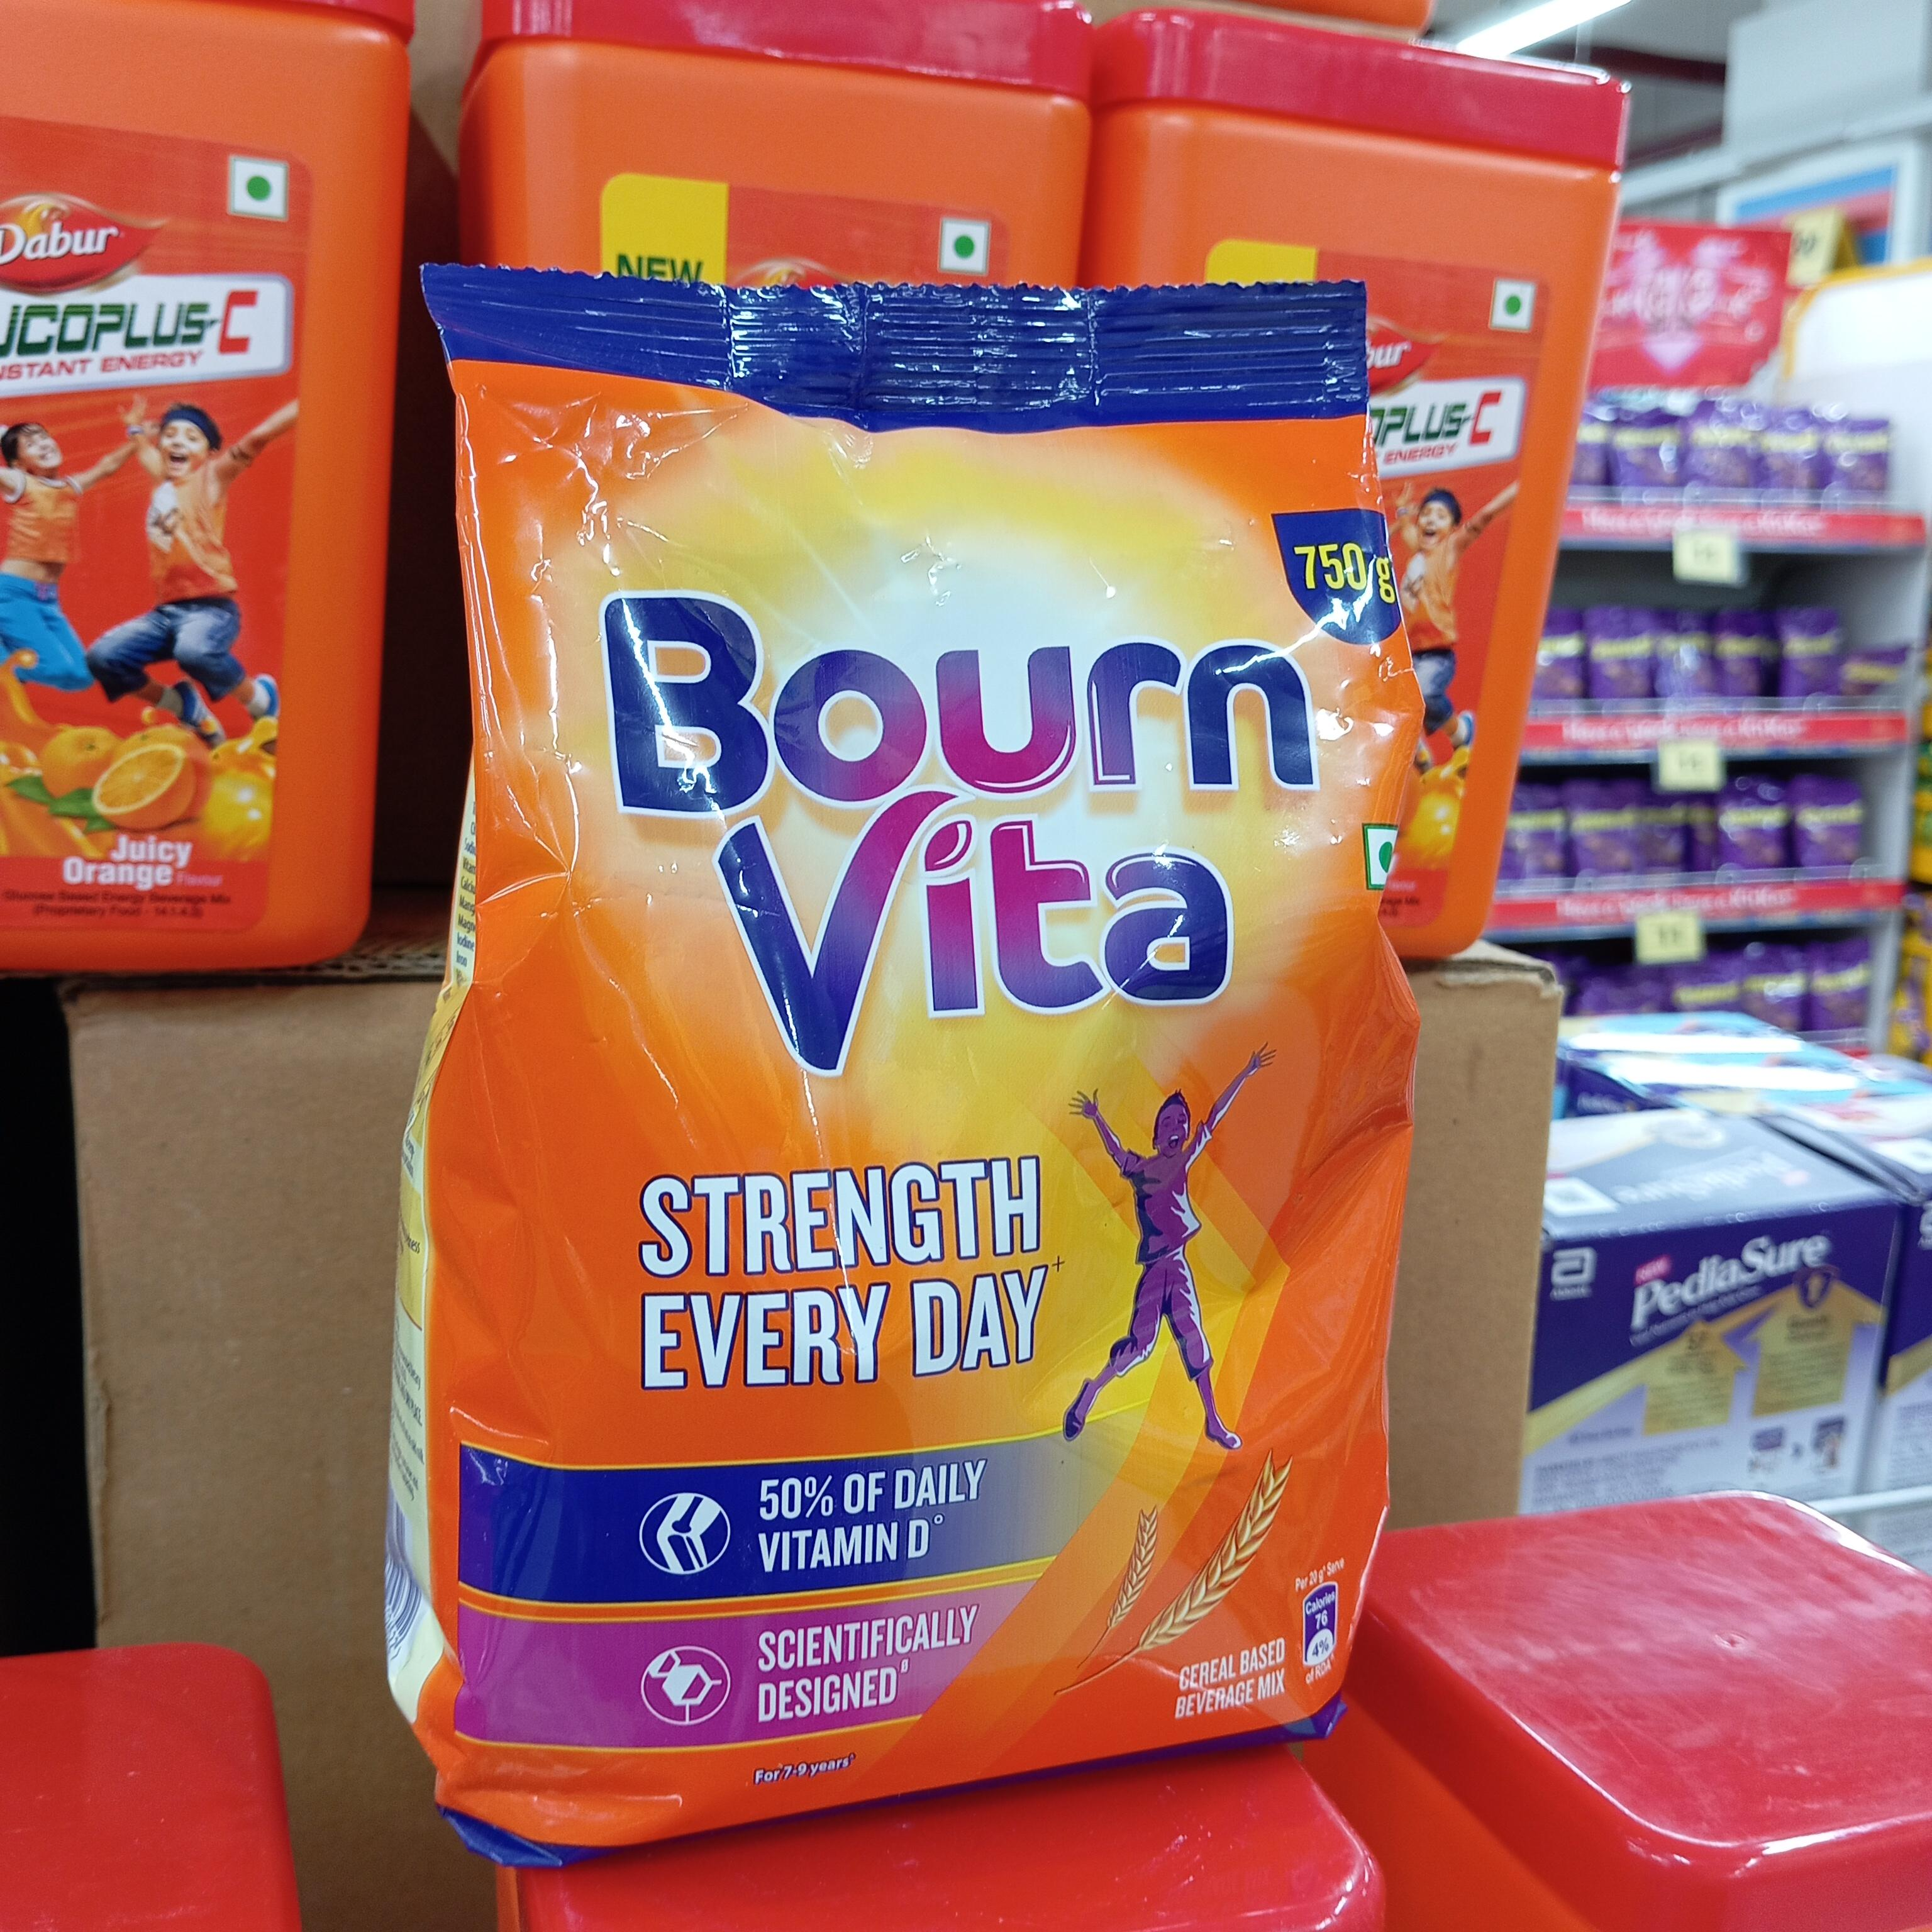BOURN_VITA_750_G_POUCH: (430, 219, 1405, 1767)
